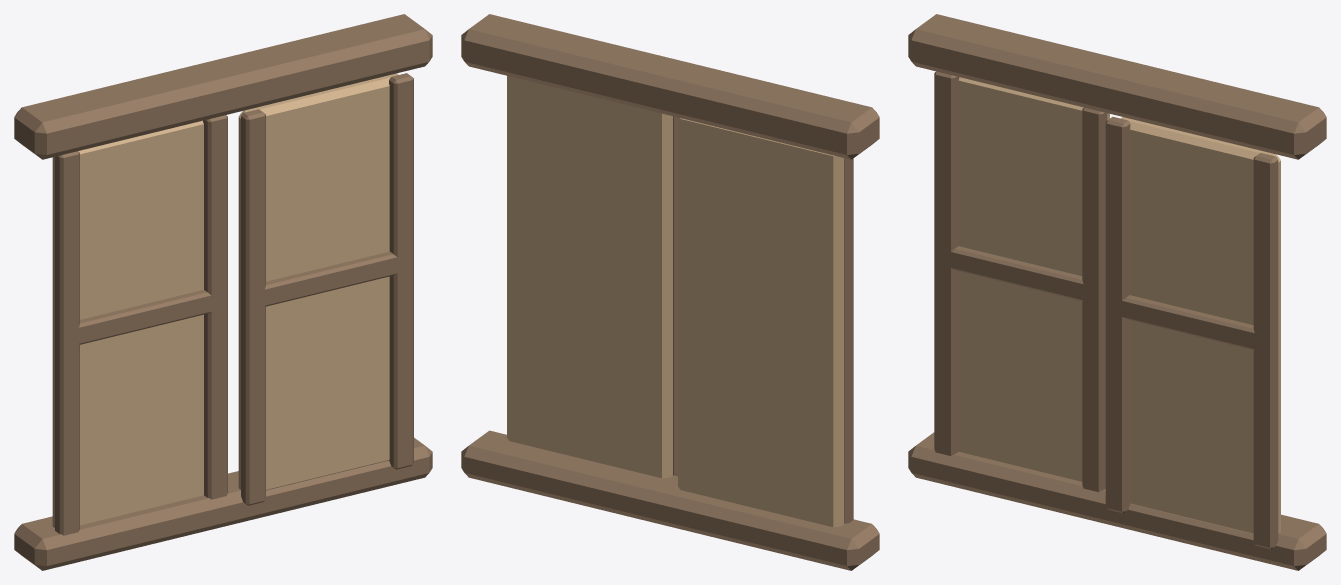
File: feudal-japan-castle-town-board-shutter-aa7f8015__26354.glb
The picture shows the model from 3 angles, left to right: view 1: azimuth 30°, elevation 25°; view 2: azimuth 150°, elevation 25°; view 3: azimuth 330°, elevation 25°; orthographic projection.
Parts seen in each view (by area): view 1: board-shutter; view 2: board-shutter; view 3: board-shutter.
Boxes of the visible parts, box(x1,y1,x2,y2) form: board-shutter: box(14, 14, 432, 570); board-shutter: box(461, 14, 879, 570); board-shutter: box(908, 14, 1326, 570).
Bounding box in the file's own units: 1.56 × 1.68 × 0.225.
